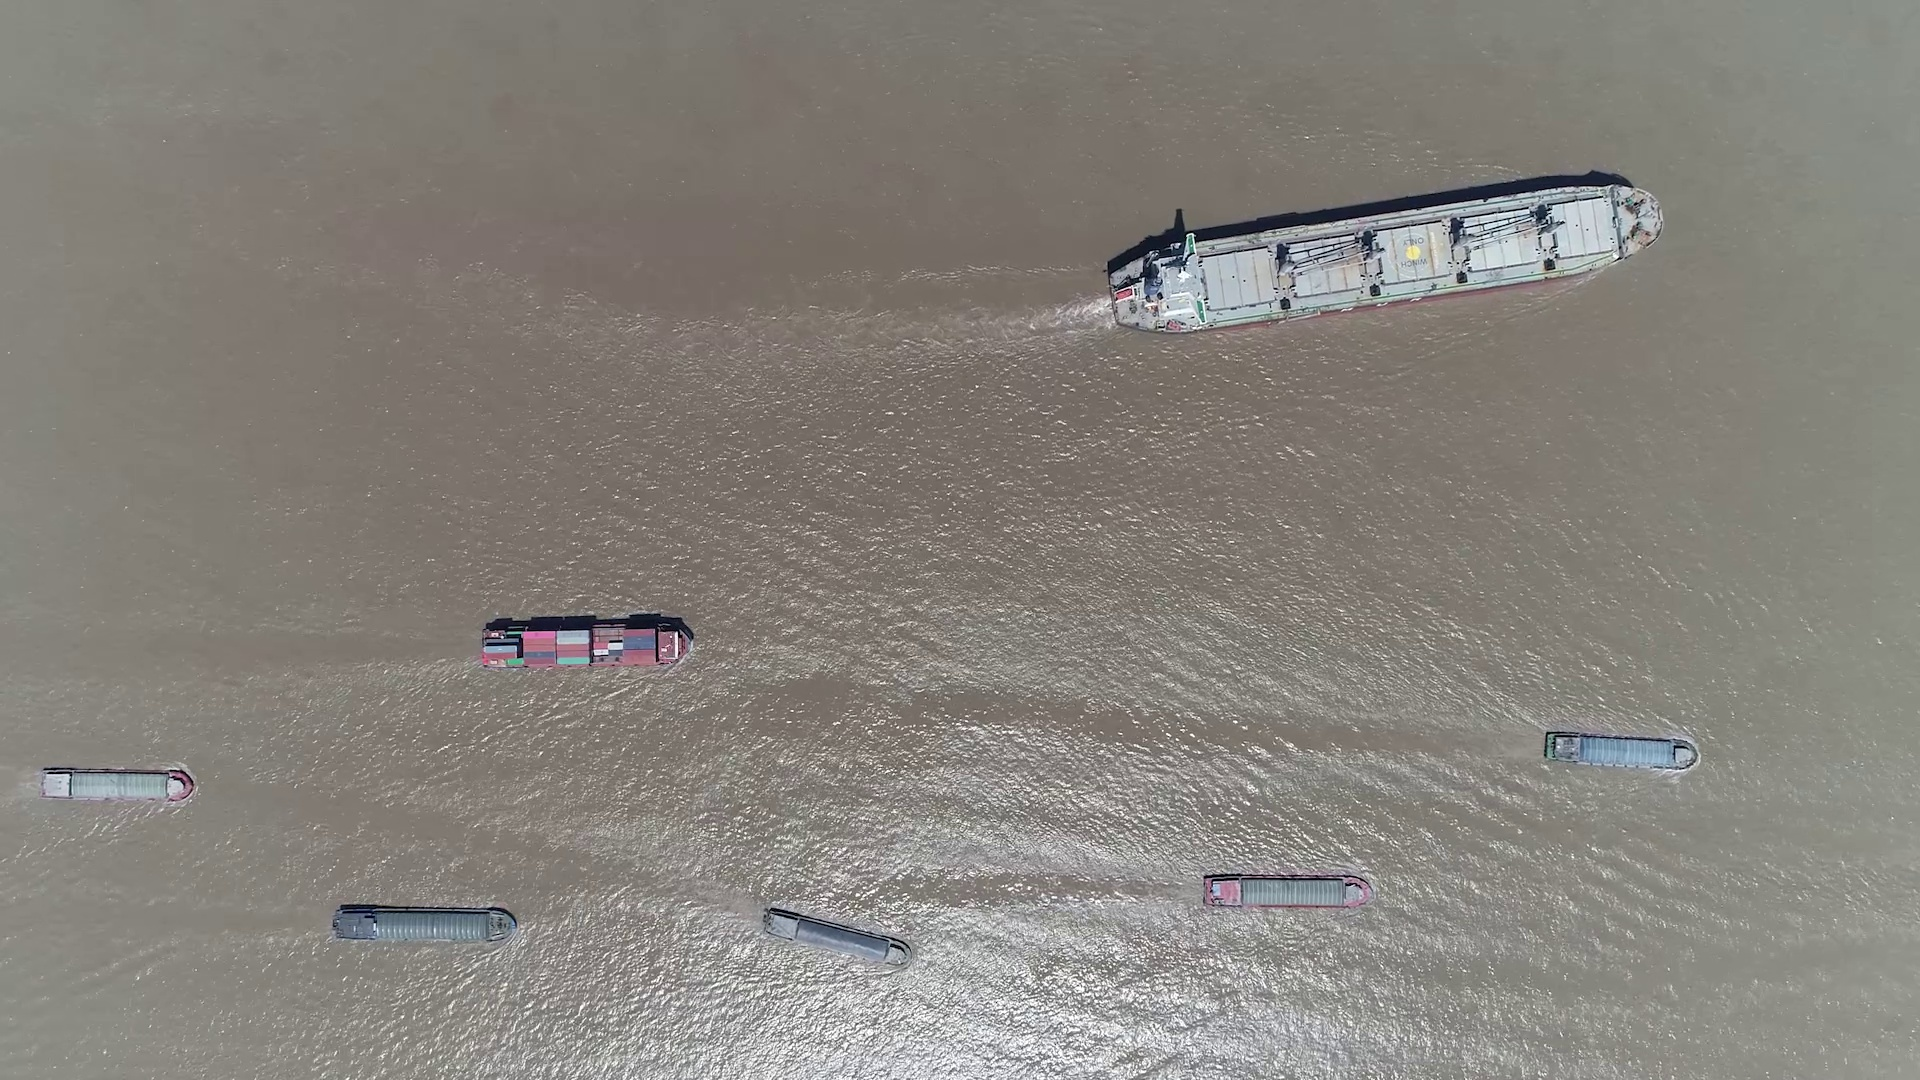ship: (1106, 185, 1660, 331), (481, 618, 690, 669), (761, 909, 911, 967), (334, 905, 516, 944), (1542, 729, 1698, 770), (1203, 874, 1371, 910), (40, 767, 193, 803)
